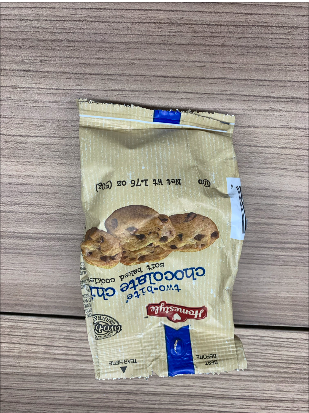Cookies_1-99g: (92, 130, 232, 365)
